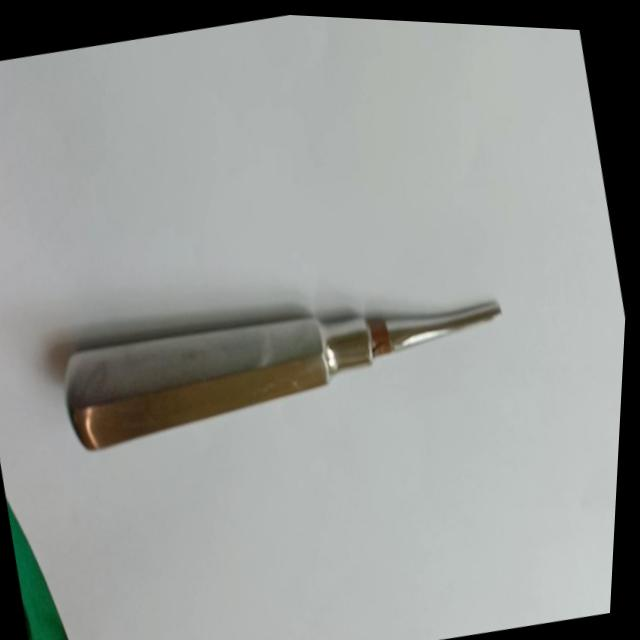Coupland1: (48, 248, 529, 483)
